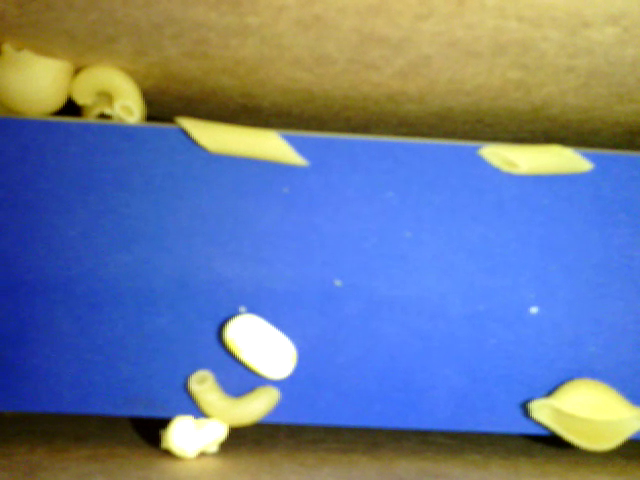elbow: (184, 368, 281, 426), (73, 64, 143, 121)
penne: (173, 116, 313, 169), (477, 144, 596, 174)
shell: (521, 374, 639, 452), (1, 39, 76, 116)
